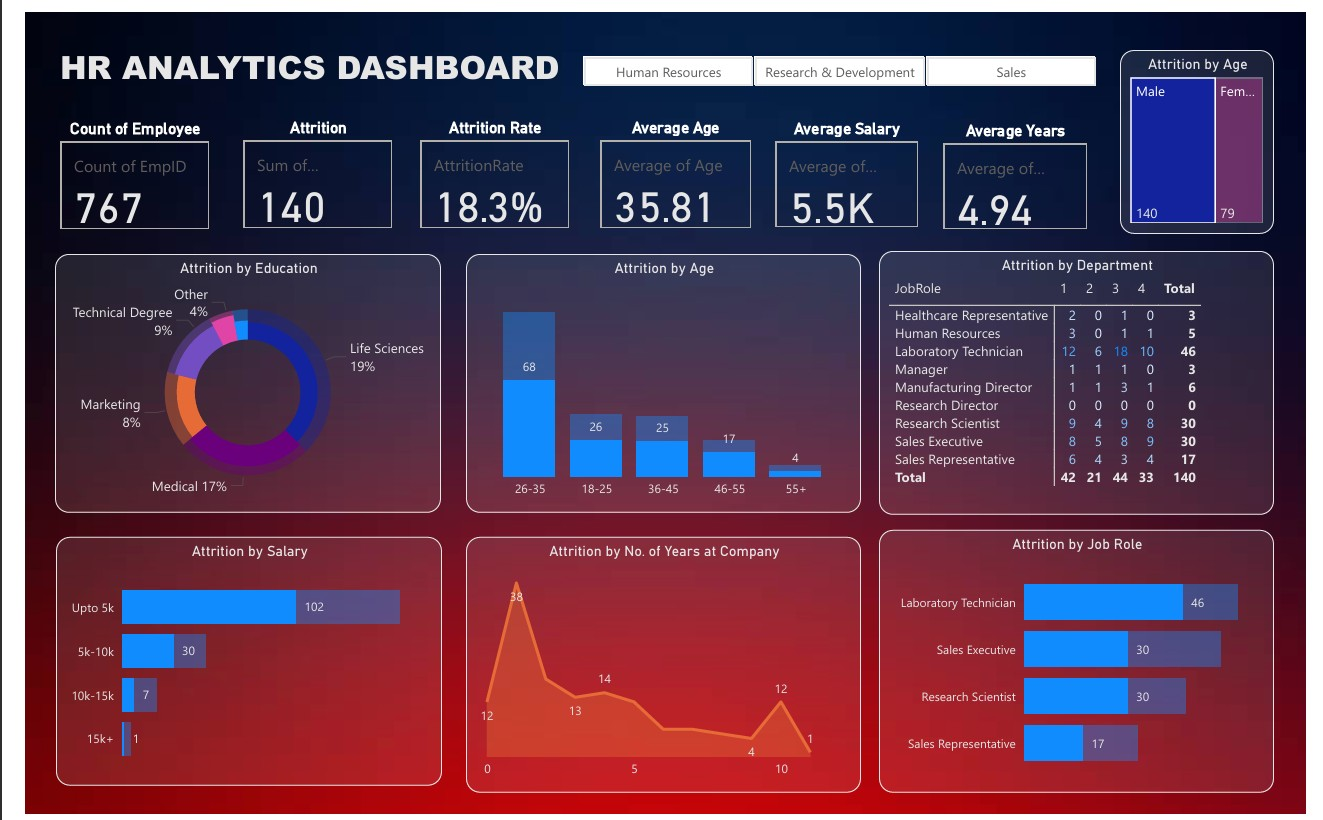

Layout of this report page (visuals, bound fields, positions):
{"tool":"powerbi","page":{"name":"Page 1","canvas":[1280,801],"ordinal":0},"visuals":[{"type":"cardVisual","title":"Count of Employee","fields":{"Data":["CountNonNull(HR_Analytics.EmpID)"]},"box":[30.3,104.5,163.6,114.1],"z":0},{"type":"cardVisual","title":"Attrition","fields":{"Data":["Sum(HR_Analytics.AttritionCount)"]},"box":[212.9,105.1,159,114.8],"z":1000},{"type":"cardVisual","title":"Attrition Rate","fields":{"Data":["HR_Analytics.AttritionRate"]},"box":[389.9,105.1,159,114.8],"z":2000},{"type":"cardVisual","title":"Average Age","fields":{"Data":["Avg(HR_Analytics.Age)"]},"box":[569.6,105.1,160.4,114.8],"z":3000},{"type":"cardVisual","title":"Average Salary","fields":{"Data":["Avg(HR_Analytics.MonthlyIncome)"]},"box":[745.2,106.5,152.1,113.4],"z":4000},{"type":"cardVisual","title":"Average Years","fields":{"Data":["Avg(HR_Analytics.YearsAtCompany)"]},"box":[912.5,107.8,153.5,113.4],"z":5000},{"type":"donutChart","title":"Attrition by Education","fields":{"Category":["HR_Analytics.EducationField"],"Y":["Sum(HR_Analytics.AttritionCount)"]},"box":[29,240.6,385.7,259.9],"z":6000},{"type":"columnChart","title":"Attrition by Age","fields":{"Y":["Sum(HR_Analytics.AttritionCount)"],"Category":["HR_Analytics.AgeGroup"]},"box":[439.7,240.6,395.4,259.9],"z":7000},{"type":"pivotTable","title":"Attrition by Department","fields":{"Rows":["HR_Analytics.JobRole"],"Columns":["HR_Analytics.JobSatisfaction"],"Values":["Sum(HR_Analytics.AttritionCount)"]},"box":[853.1,237.8,395.4,264.1],"z":8000},{"type":"barChart","title":"Attrition by Salary","fields":{"Category":["HR_Analytics.SalarySlab"],"Y":["Sum(HR_Analytics.AttritionCount)"]},"box":[30.4,524,385.7,248.9],"z":9000},{"type":"barChart","title":"Attrition by Job Role","fields":{"Category":["HR_Analytics.JobRole"],"Y":["Sum(HR_Analytics.AttritionCount)"]},"box":[853.1,517.1,395.4,262.7],"z":10000},{"type":"areaChart","title":"Attrition by No. of Years at Company","fields":{"Category":["HR_Analytics.YearsAtCompany"],"Y":["Sum(HR_Analytics.AttritionCount)"]},"box":[439.7,524,395.4,255.8],"z":11000},{"type":"treemap","title":"Attrition by Age","fields":{"Group":["HR_Analytics.Gender"],"Values":["Sum(HR_Analytics.AttritionCount)"]},"box":[1093.6,37.3,154.9,183.9],"z":12000},{"type":"slicer","title":"Department","fields":{"Values":["HR_Analytics.Department"]},"box":[532.3,37.3,561.3,40.1],"z":13000},{"type":"textbox","box":[29,26.3,641.5,71.9],"z":14000}]}

Visuals, with their boxes in screenshot pixels (x1, y1, x2, y2), scaled from the page's 1280x801 canvas onto the 1323x820 screenshot:
"Count of Employee" cardVisual: x1=31, y1=107, x2=200, y2=224
"Attrition" cardVisual: x1=220, y1=108, x2=384, y2=225
"Attrition Rate" cardVisual: x1=403, y1=108, x2=567, y2=225
"Average Age" cardVisual: x1=589, y1=108, x2=755, y2=225
"Average Salary" cardVisual: x1=770, y1=109, x2=927, y2=225
"Average Years" cardVisual: x1=943, y1=110, x2=1102, y2=226
"Attrition by Education" donutChart: x1=30, y1=246, x2=429, y2=512
"Attrition by Age" columnChart: x1=454, y1=246, x2=863, y2=512
"Attrition by Department" pivotTable: x1=882, y1=243, x2=1290, y2=514
"Attrition by Salary" barChart: x1=31, y1=536, x2=430, y2=791
"Attrition by Job Role" barChart: x1=882, y1=529, x2=1290, y2=798
"Attrition by No. of Years at Company" areaChart: x1=454, y1=536, x2=863, y2=798
"Attrition by Age" treemap: x1=1130, y1=38, x2=1290, y2=226
"Department" slicer: x1=550, y1=38, x2=1130, y2=79
textbox: x1=30, y1=27, x2=693, y2=101
